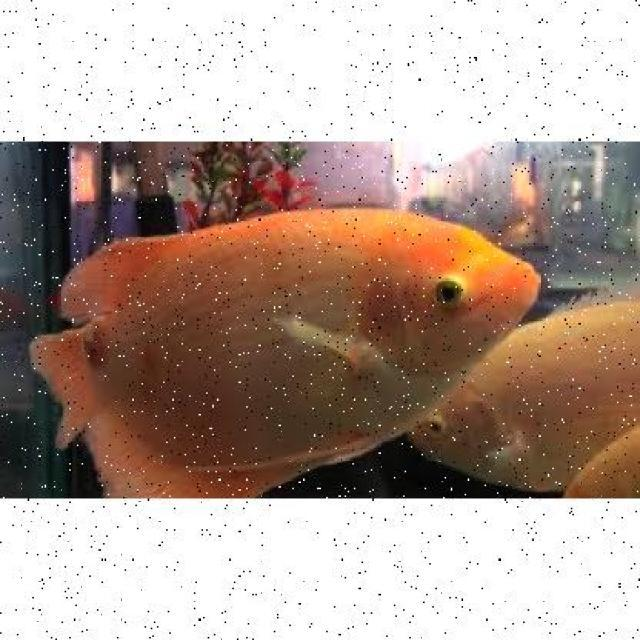gurame: (30, 206, 539, 497)
